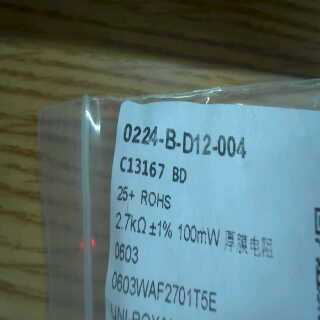2.7kR: (112, 212, 149, 238)
